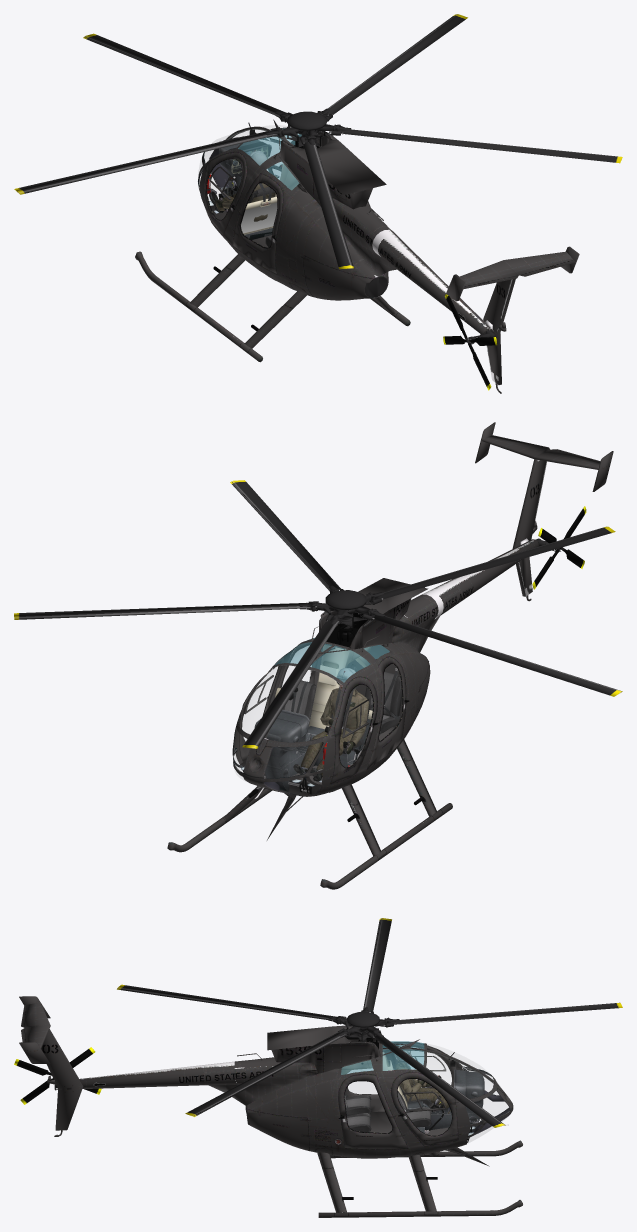
3 renders of one model, top to bottom at view 1: azimuth 30°, elevation 25°; view 2: azimuth 150°, elevation 25°; view 3: azimuth 270°, elevation 25°, orthographic. The views are drawn at different scales.
Visible parts, largest first — view 1: ext_fuse1, rotor_main, ext_fuse1_doors, ext_fuse1_skids, int_fuse1, int_seats, glasss_grn, int_console, rotor_tail, int_pilotR, int_fuse1a; view 2: ext_fuse1, rotor_main, int_seats, ext_fuse1_doors, ext_fuse1_skids, int_console, int_pilotR, glasss_grn, int_fuse1, glass, rotor_tail, int_fuse1a; view 3: ext_fuse1, rotor_main, ext_fuse1_doors, ext_fuse1_skids, int_fuse1, int_seats, glass, int_console, glasss_grn, int_pilotR, rotor_tail, int_fuse1a (+1 smaller).
Part boxes in pixels (bbox=[...]): ext_fuse1: bbox=[198, 119, 579, 393]; rotor_main: bbox=[14, 14, 622, 269]; ext_fuse1_doors: bbox=[204, 152, 283, 273]; ext_fuse1_skids: bbox=[135, 251, 410, 362]; int_fuse1: bbox=[200, 134, 388, 300]; int_seats: bbox=[228, 163, 299, 247]; glasss_grn: bbox=[238, 128, 301, 190]; int_console: bbox=[207, 139, 271, 194]; rotor_tail: bbox=[443, 294, 497, 390]; int_pilotR: bbox=[209, 150, 277, 221]; int_fuse1a: bbox=[198, 128, 285, 197]; ext_fuse1: bbox=[233, 422, 613, 840]; rotor_main: bbox=[14, 480, 622, 748]; int_seats: bbox=[275, 644, 402, 767]; ext_fuse1_doors: bbox=[239, 642, 409, 783]; ext_fuse1_skids: bbox=[167, 739, 452, 889]; int_console: bbox=[254, 709, 326, 791]; int_pilotR: bbox=[293, 668, 369, 781]; glasss_grn: bbox=[274, 638, 389, 682]; int_fuse1: bbox=[234, 640, 430, 794]; glass: bbox=[234, 666, 310, 781]; rotor_tail: bbox=[532, 506, 586, 589]; int_fuse1a: bbox=[232, 646, 341, 796]; ext_fuse1: bbox=[19, 996, 513, 1166]; rotor_main: bbox=[117, 918, 622, 1127]; ext_fuse1_doors: bbox=[338, 1043, 458, 1149]; ext_fuse1_skids: bbox=[317, 1140, 522, 1217]; int_fuse1: bbox=[245, 1042, 469, 1158]; int_seats: bbox=[341, 1048, 431, 1133]; glass: bbox=[348, 1044, 508, 1143]; int_console: bbox=[425, 1069, 484, 1132]; glasss_grn: bbox=[341, 1041, 424, 1074]; int_pilotR: bbox=[394, 1043, 449, 1108]; rotor_tail: bbox=[14, 1047, 101, 1104]; int_fuse1a: bbox=[382, 1043, 511, 1136].
Size of the model in its own units: 7.48 by 2.89 by 9.2.
13 materials, 12 textured.
